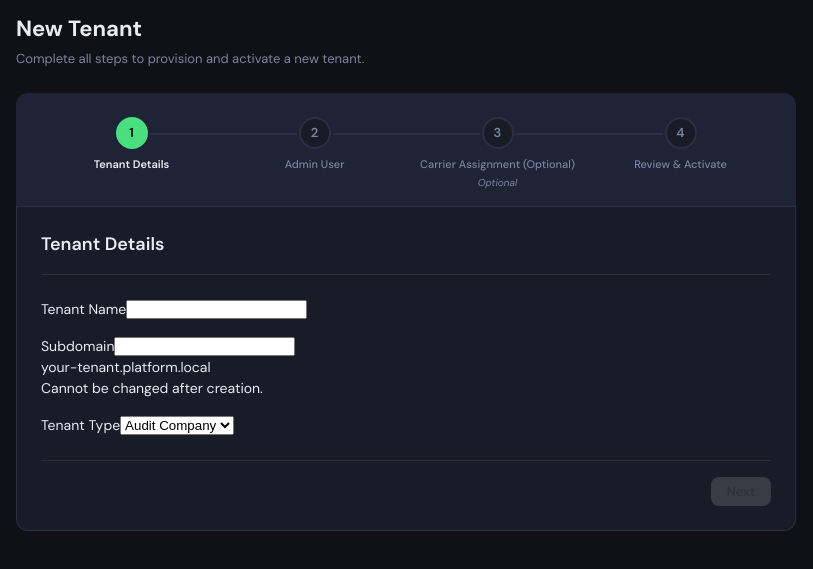
Test case: TenantCreationWizard › step 1: rejects reserved subdomain 'www'
The image size is (813, 569).
Step 1. Type "www" into the field labelled "Subdomain" → {"x": 205, "y": 346}, box [114, 337, 296, 356]
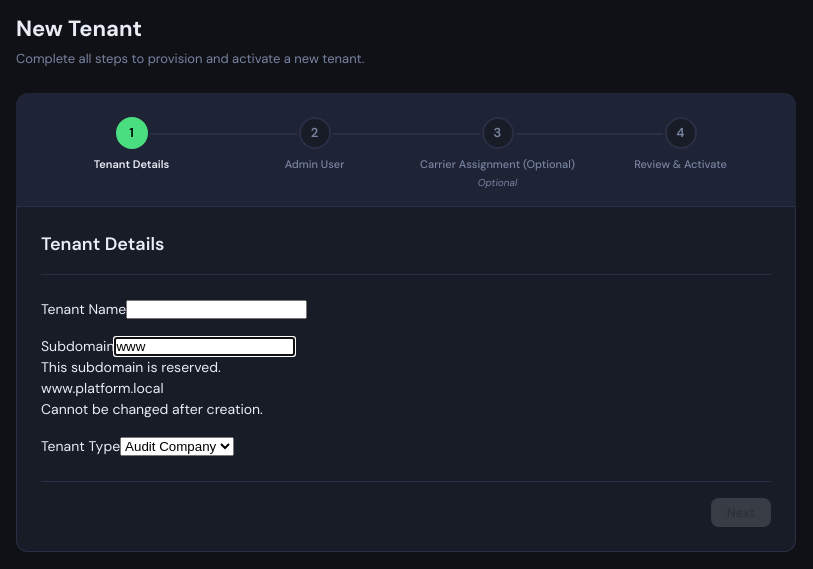
Expected: the text "This subdomain is reserved." is shown, [41, 358, 221, 376]
